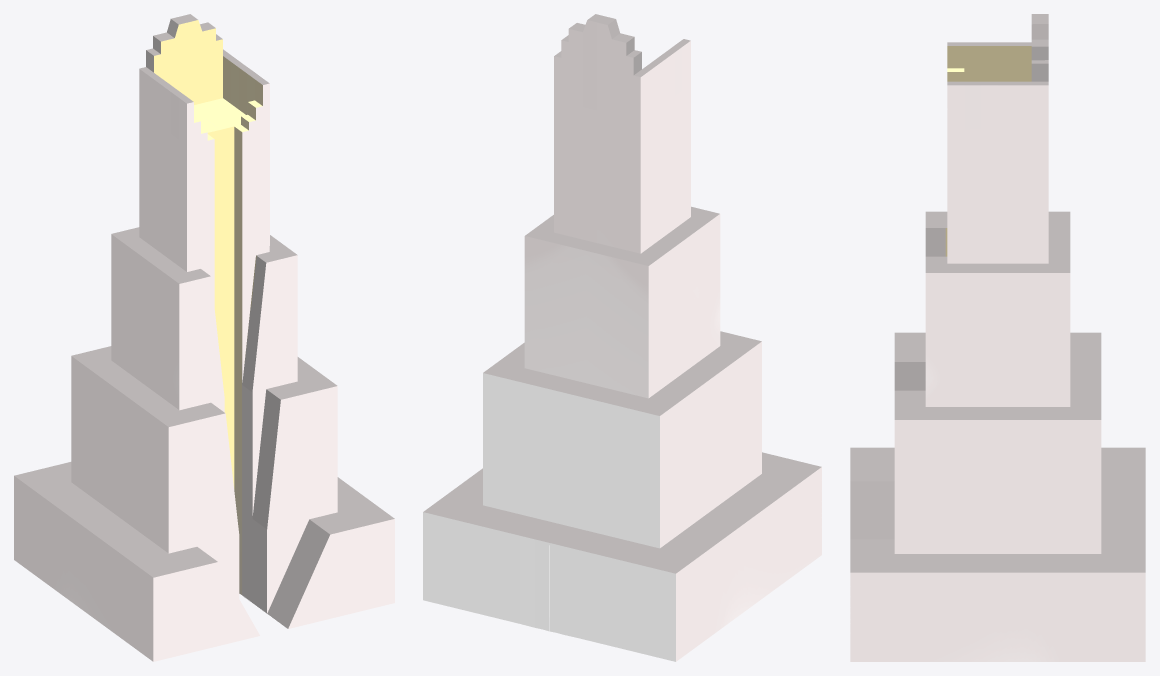
File: akdzhin-white-temple.glb
3 views of the same model, side by side, from view 1: azimuth 30°, elevation 25°; view 2: azimuth 150°, elevation 25°; view 3: azimuth 270°, elevation 25° (orthographic). The views are drawn at different scales.
Visible parts, largest first — view 1: temple; view 2: temple; view 3: temple.
Boxes of the visible parts, left/top/right/bottom form: temple: left=14, top=14, right=394, bottom=661; temple: left=423, top=14, right=821, bottom=661; temple: left=850, top=14, right=1145, bottom=661.
Bounding box in the file's own units: 12 × 26.02 × 12.
1 material, 1 textured.
